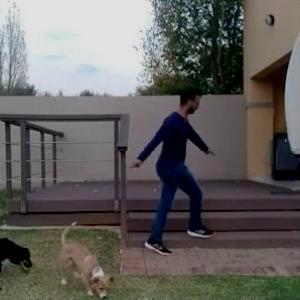land: (96, 80, 220, 258)
